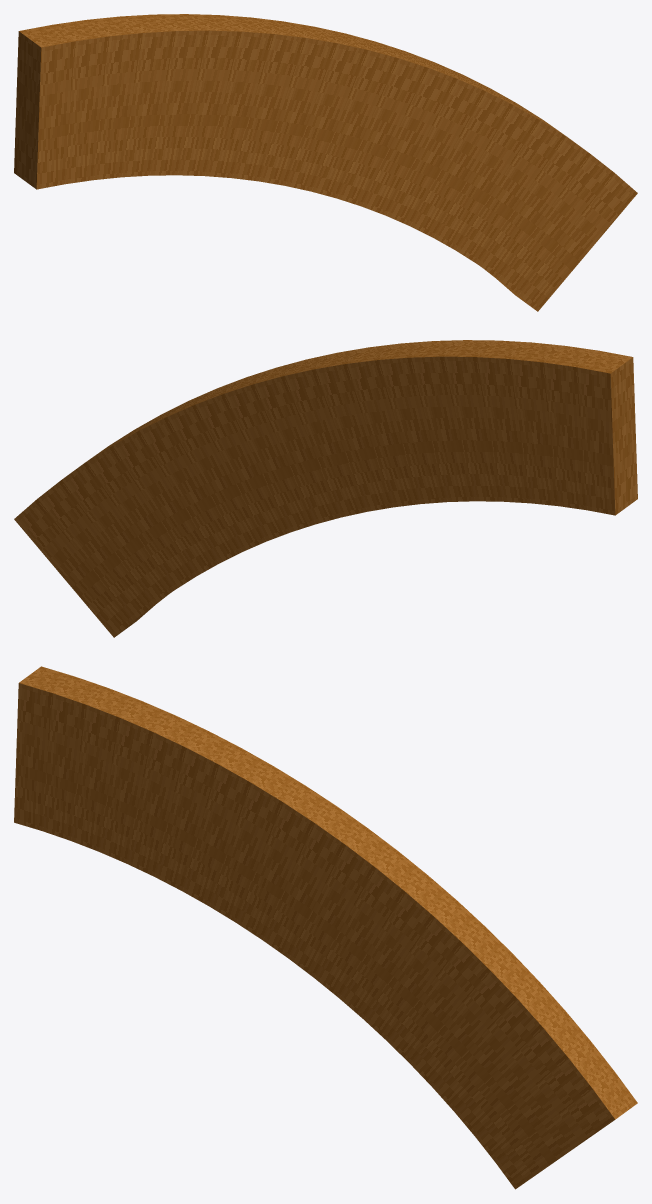
File: destiny_door_controller_amber_dim_offset_2.obj
3 renders of one model, top to bottom at view 1: azimuth 30°, elevation 25°; view 2: azimuth 150°, elevation 25°; view 3: azimuth 330°, elevation 25°, orthographic.
Parts seen in each view (by area): view 1: Destiny_airlock_controller; view 2: Destiny_airlock_controller; view 3: Destiny_airlock_controller.
Boxes of the visible parts, x1,y1,x2,y2 form: Destiny_airlock_controller: (14,14,637,311); Destiny_airlock_controller: (14,340,637,637); Destiny_airlock_controller: (14,666,637,1189).
Bounding box in the file's own units: 0.1613 × 0.0988 × 0.0105.
